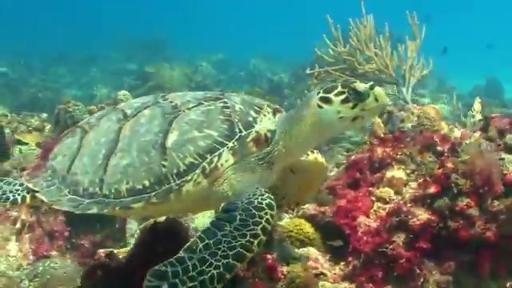Fish: (0, 82, 388, 287)
